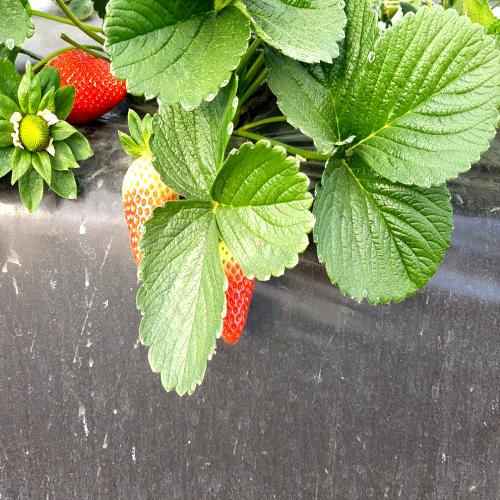partially-ripe: (124, 153, 177, 268)
ripe: (209, 228, 266, 350), (48, 51, 129, 130)
